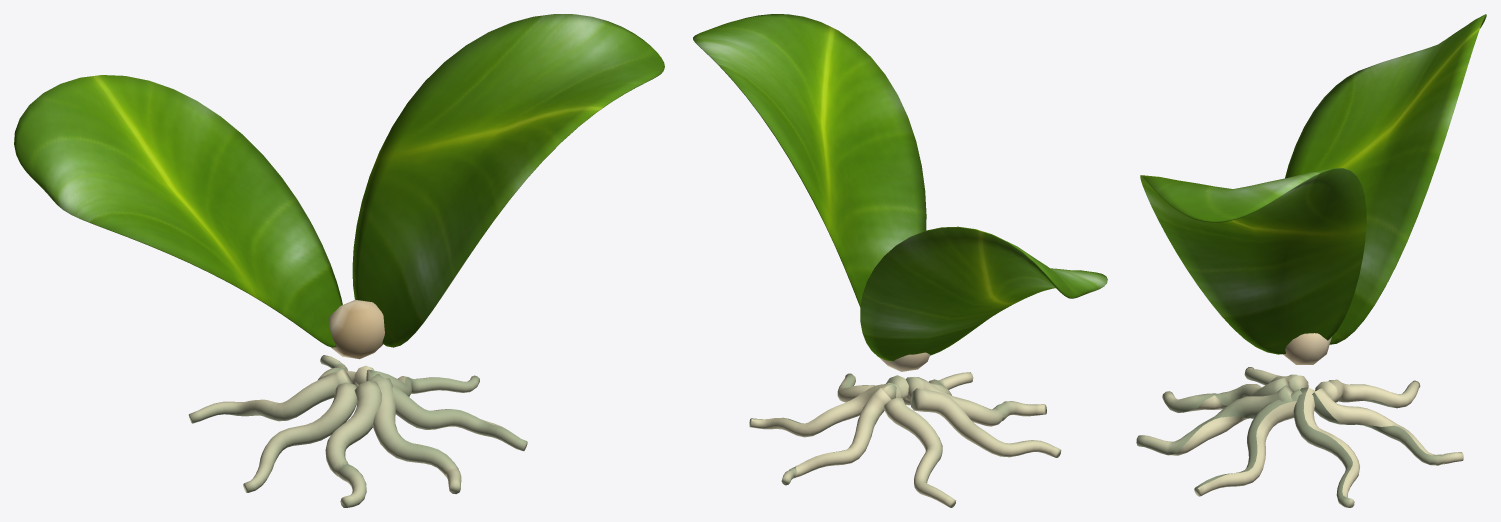
File: NP_Orchid_Sprout.fbx
3 views of the same model, side by side, from view 1: azimuth 30°, elevation 25°; view 2: azimuth 150°, elevation 25°; view 3: azimuth 270°, elevation 25° (orthographic). The views are drawn at different scales.
Visible parts, largest first — view 1: NP_Orchid_Sprout; view 2: NP_Orchid_Sprout; view 3: NP_Orchid_Sprout.
Part boxes in pixels (x1,y1,x2,y2): NP_Orchid_Sprout: (14,14,664,507); NP_Orchid_Sprout: (693,14,1107,507); NP_Orchid_Sprout: (1136,14,1486,507).
Size of the model in its own units: 32.13 by 22.16 by 19.31.
1 material, 1 textured.
